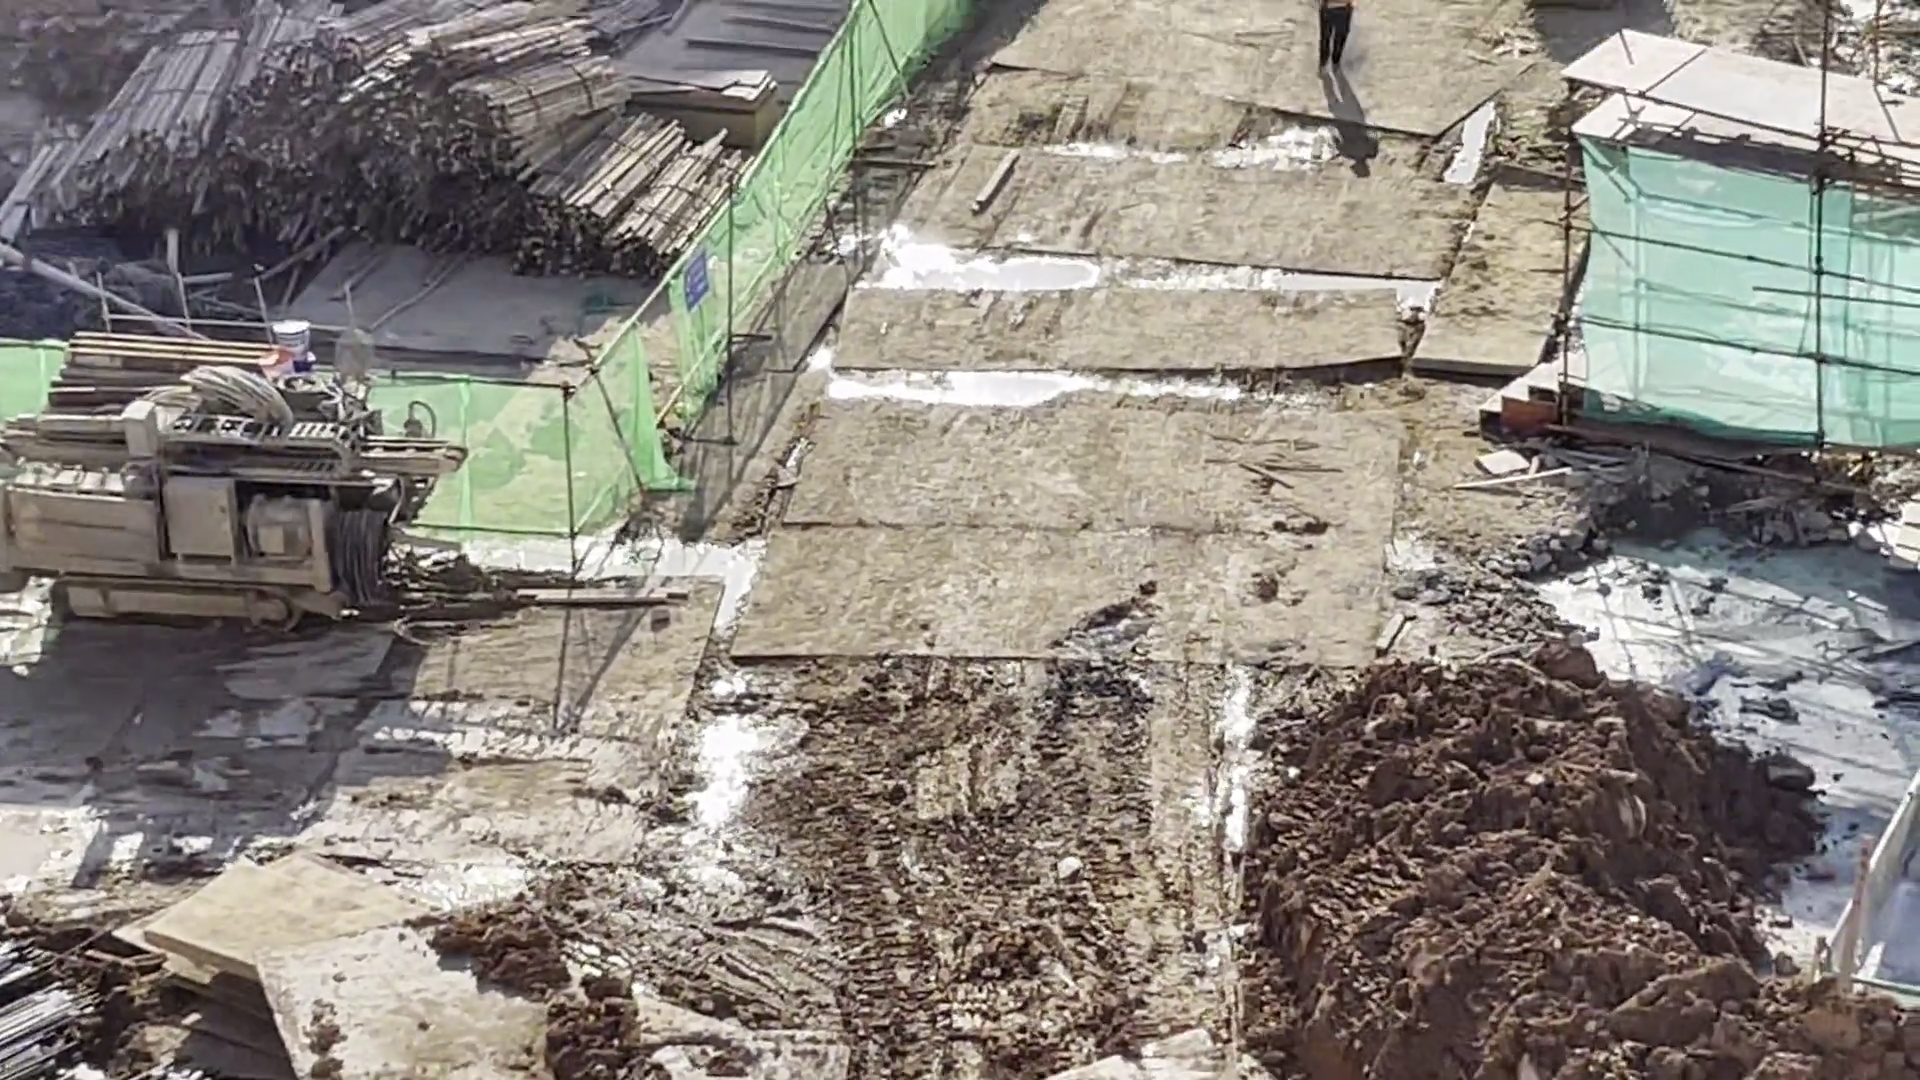board: (625, 62, 780, 148)
person: (1310, 1, 1360, 78)
rebar: (1, 938, 109, 1074)
wood: (234, 6, 524, 263), (1, 28, 230, 256), (519, 111, 749, 283)
